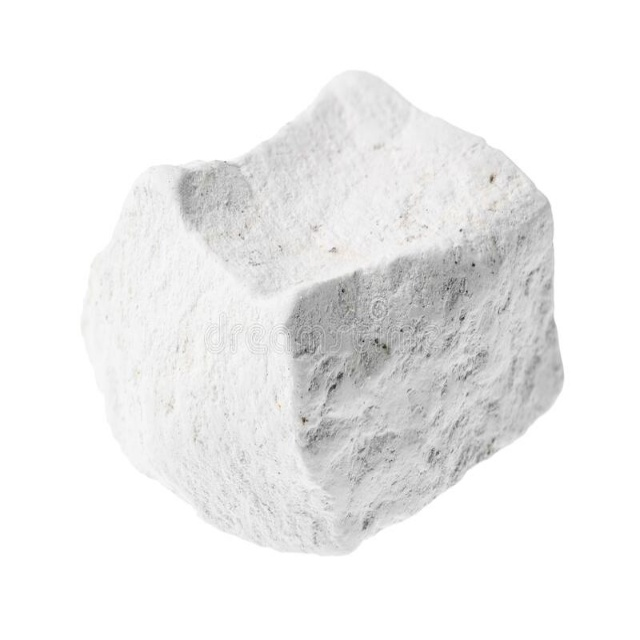obstacle: (83, 72, 562, 553)
